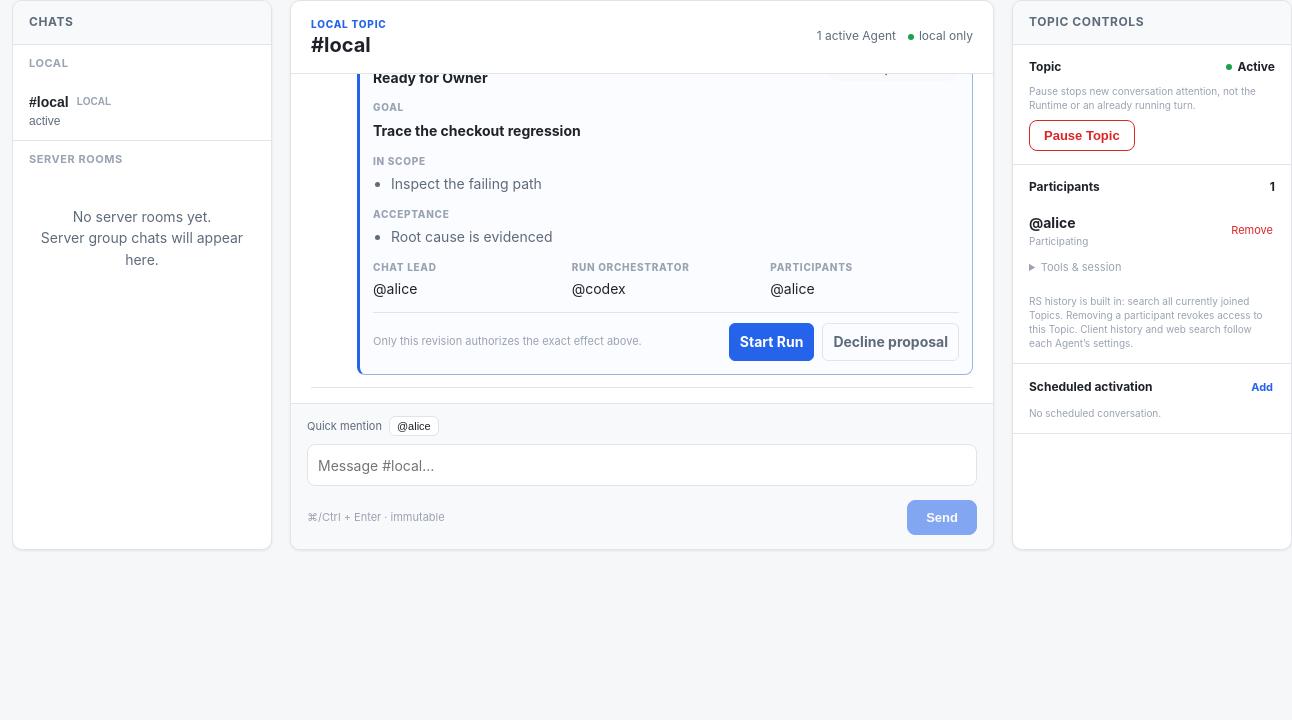
ChatsView › declines one exact proposal without blocking another card
The width and height of the screenshot is (1292, 720).
(page scrolled)
Click the button with class "decline-action".
click(891, 342)  # box x1=822 y1=323 x2=959 y2=361
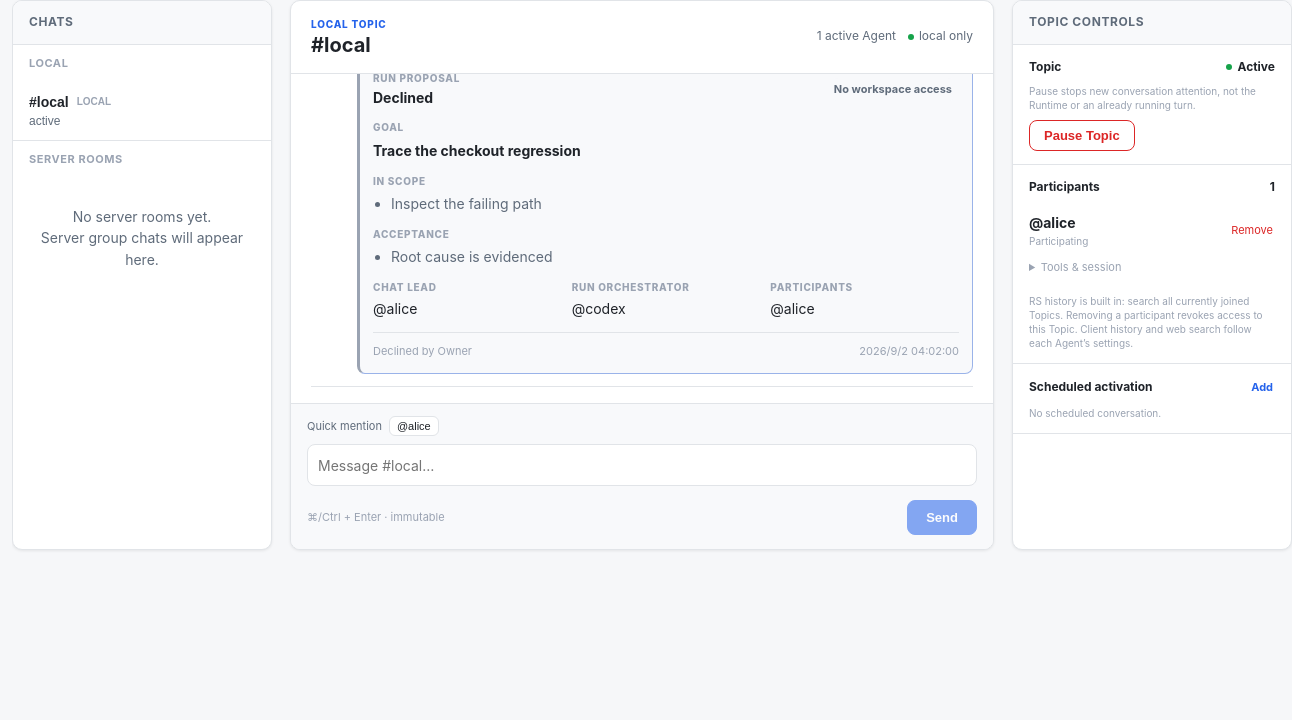
Result: the text "Declined by Owner" is shown at x1=373 y1=343 x2=472 y2=360
